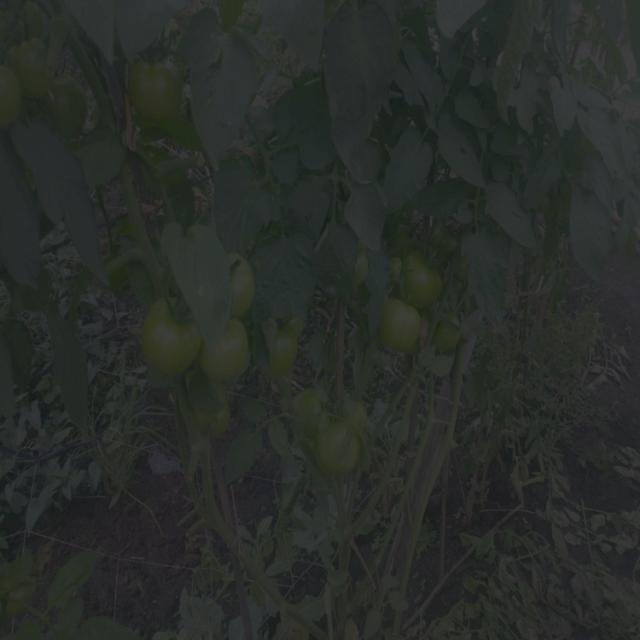tomato: (140, 295, 203, 373), (126, 56, 183, 122), (310, 415, 365, 481), (47, 75, 94, 142), (13, 36, 60, 87), (265, 319, 301, 378), (382, 300, 423, 348), (295, 386, 333, 437), (225, 253, 257, 313), (218, 323, 251, 377), (404, 256, 440, 301), (1, 58, 17, 132), (430, 222, 460, 255), (209, 398, 233, 436), (438, 326, 461, 353)
